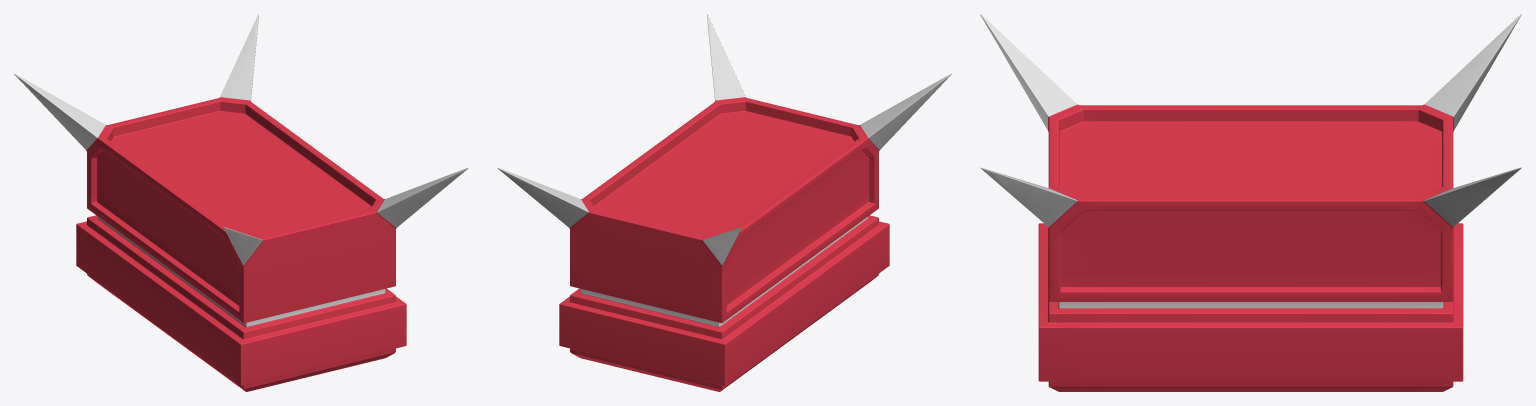
Rendered from Small_Enemy01.fbx.
3 renders of one model, left to right at view 1: azimuth 30°, elevation 25°; view 2: azimuth 150°, elevation 25°; view 3: azimuth 270°, elevation 25°, orthographic. The views are drawn at different scales.
Visible parts, largest first — view 1: Small_Enemy01; view 2: Small_Enemy01; view 3: Small_Enemy01.
Boxes of the visible parts, x1,y1,x2,y2 form: Small_Enemy01: (14,14,468,391); Small_Enemy01: (497,14,951,391); Small_Enemy01: (980,14,1521,391).
Size of what is drawn, in the model's own units: 180 by 141 by 268.
